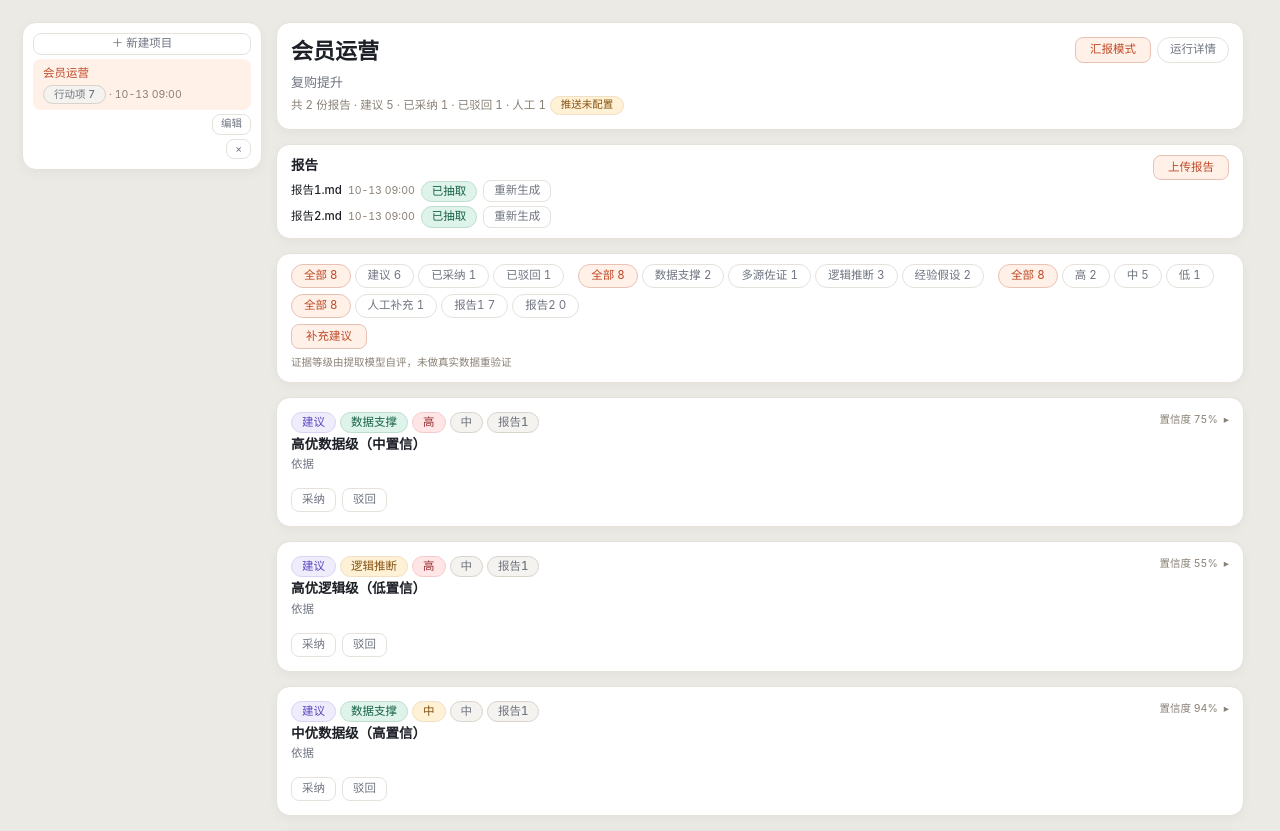
Test: S15 汇总页：大字统计（报告/建议/高优/已采纳口径）+ 证据分布条图例计数（四级夹具）
What coordinates should you click on to do the following:
click the button "汇报模式"
I would click on:
 (1113, 50)
Its box is top-left (1075, 37), bottom-right (1151, 63).
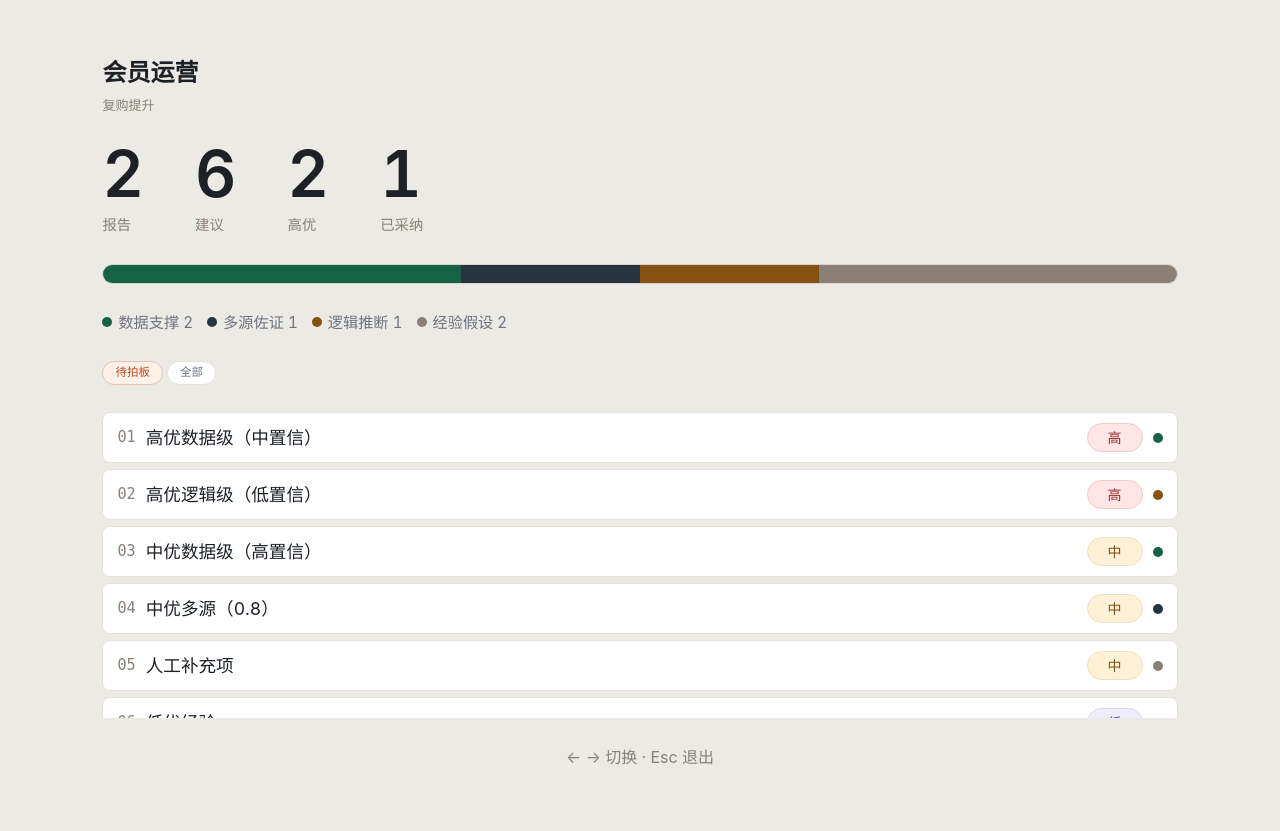
Expected: the text "数据支撑 2" is shown, top-left (102, 311), bottom-right (193, 334)
Expected: the text "多源佐证 1" is shown, top-left (207, 311), bottom-right (298, 334)
Expected: the text "逻辑推断 1" is shown, top-left (312, 311), bottom-right (402, 334)
